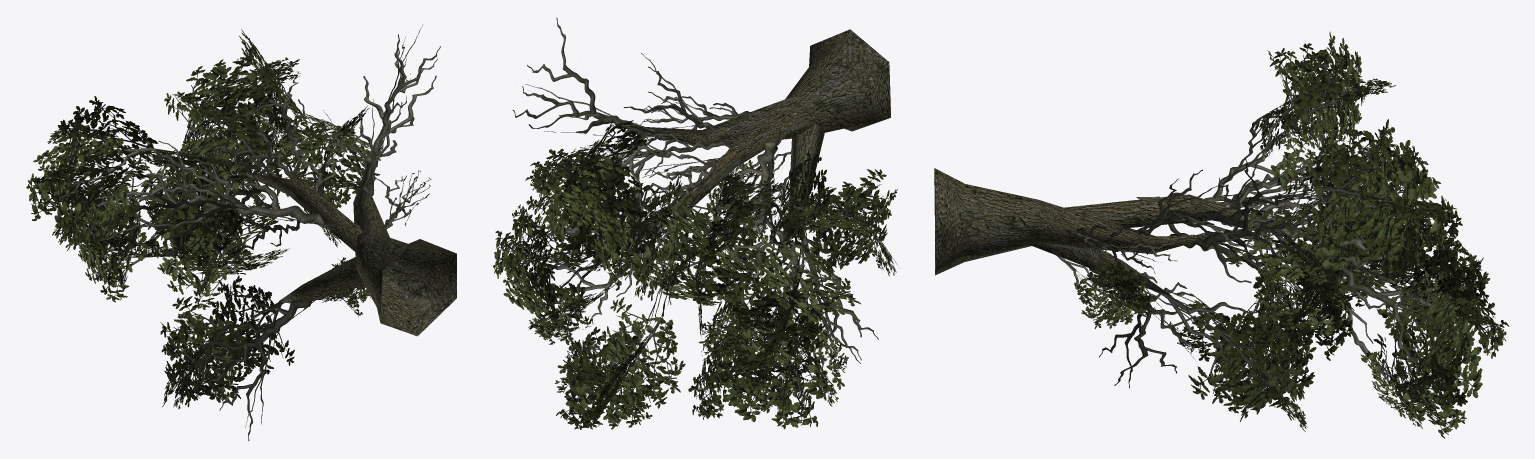
Rendered from MEP_Oak_04.fbx.
3 renders of one model, left to right at view 1: azimuth 30°, elevation 25°; view 2: azimuth 150°, elevation 25°; view 3: azimuth 270°, elevation 25°, orthographic. The views are drawn at different scales.
Visible parts, largest first — view 1: MEP_Oak_03, MEP_Oak_Trunk_04; view 2: MEP_Oak_03, MEP_Oak_Trunk_04; view 3: MEP_Oak_03, MEP_Oak_Trunk_04.
Part boxes in pixels (x1,y1,x2,y2): MEP_Oak_03: (26, 25, 440, 440); MEP_Oak_Trunk_04: (238, 163, 456, 336); MEP_Oak_03: (493, 18, 897, 429); MEP_Oak_Trunk_04: (628, 29, 890, 254); MEP_Oak_03: (1056, 31, 1509, 438); MEP_Oak_Trunk_04: (934, 168, 1293, 296).
Size of the model in its own units: 14.44 by 12.08 by 16.48.
